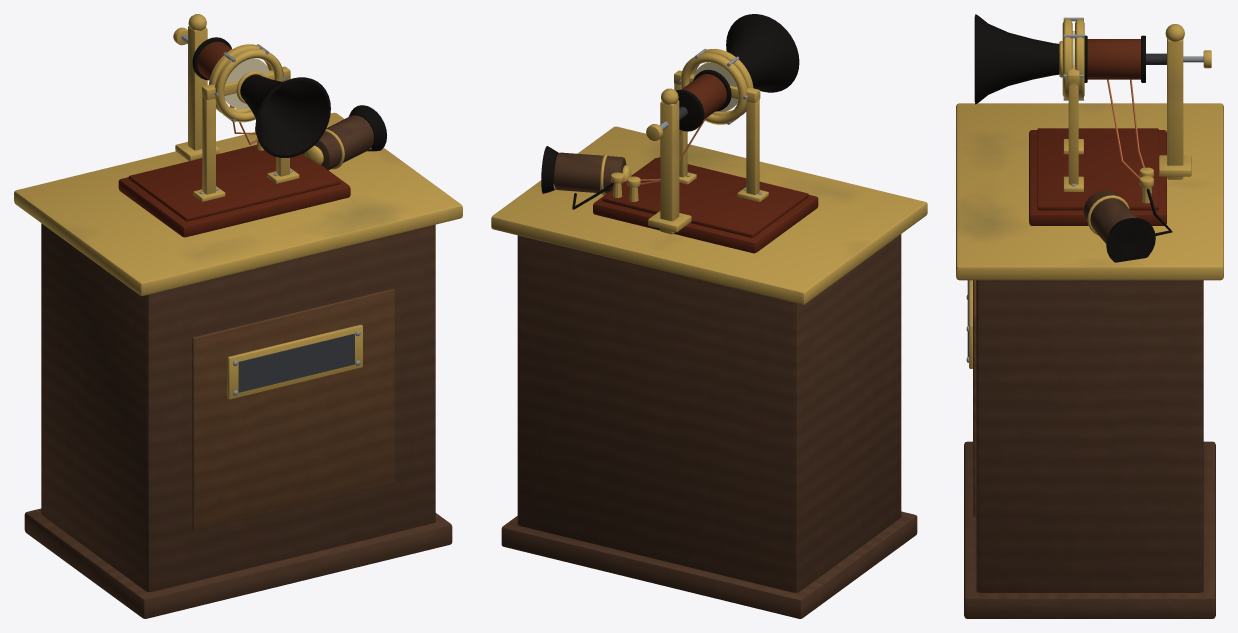
The model's file is bell.glb.
3 renders of one model, left to right at view 1: azimuth 30°, elevation 25°; view 2: azimuth 150°, elevation 25°; view 3: azimuth 270°, elevation 25°, orthographic. The views are drawn at different scales.
Visible parts, largest first — view 1: bell_static, bellDevice_static, plaque_static, receiver2_static, diaphragm; view 2: bell_static, bellDevice_static, receiver2_static; view 3: bell_static, bellDevice_static, receiver2_static, plaque_static.
Part boxes in pixels (<box>): bell_static: <box>14,112,462,618</box>; bellDevice_static: <box>118,14,350,237</box>; plaque_static: <box>227,324,362,399</box>; receiver2_static: <box>303,105,386,170</box>; diaphragm: <box>224,58,269,109</box>; bell_static: <box>491,126,927,618</box>; bellDevice_static: <box>572,14,818,253</box>; receiver2_static: <box>541,146,631,195</box>; bell_static: <box>956,103,1223,618</box>; bellDevice_static: <box>974,14,1211,235</box>; receiver2_static: <box>1083,190,1155,262</box>; plaque_static: <box>966,280,972,368</box>.
Bounding box in the file's own units: 0.96 × 1.42 × 0.66.
Materials: 11 (6 with a texture image).
